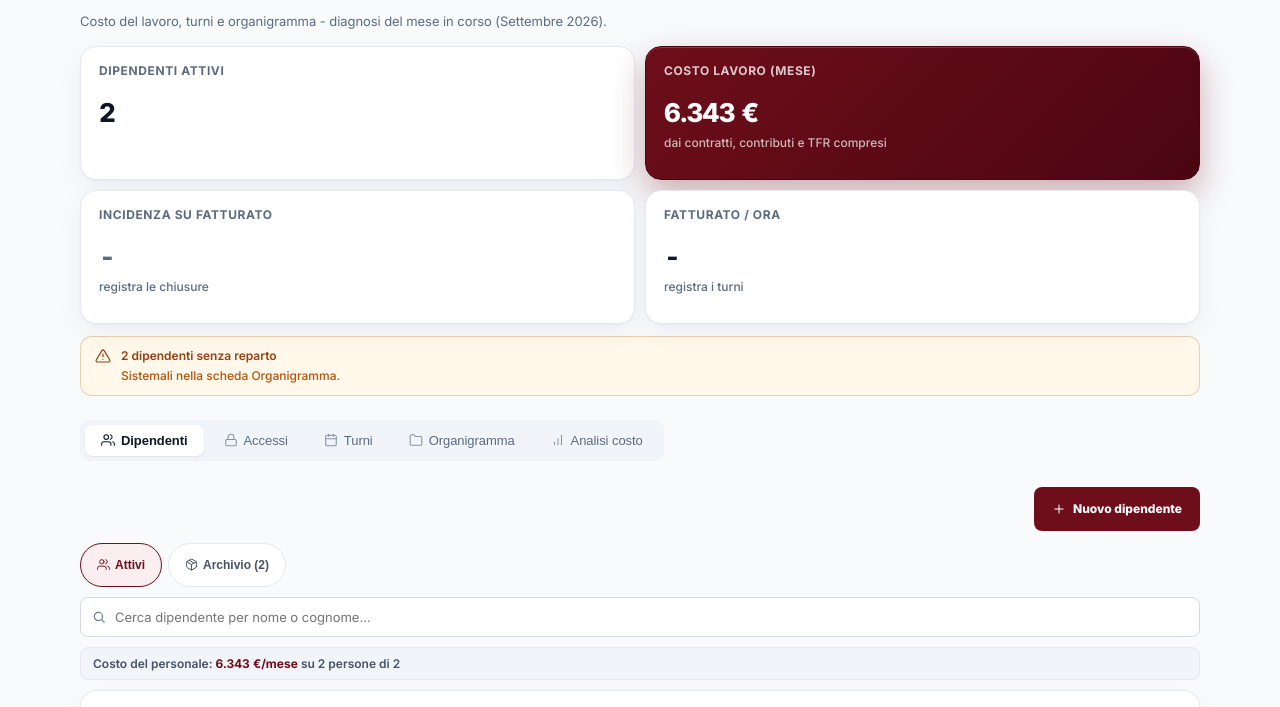
Scenario: Il tablet si tocca col dito, come il telefono › anche le frecce del periodo nei turni sono da dito sul tablet
Click the button "Turni" at (348, 440), box [308,424,389,456]
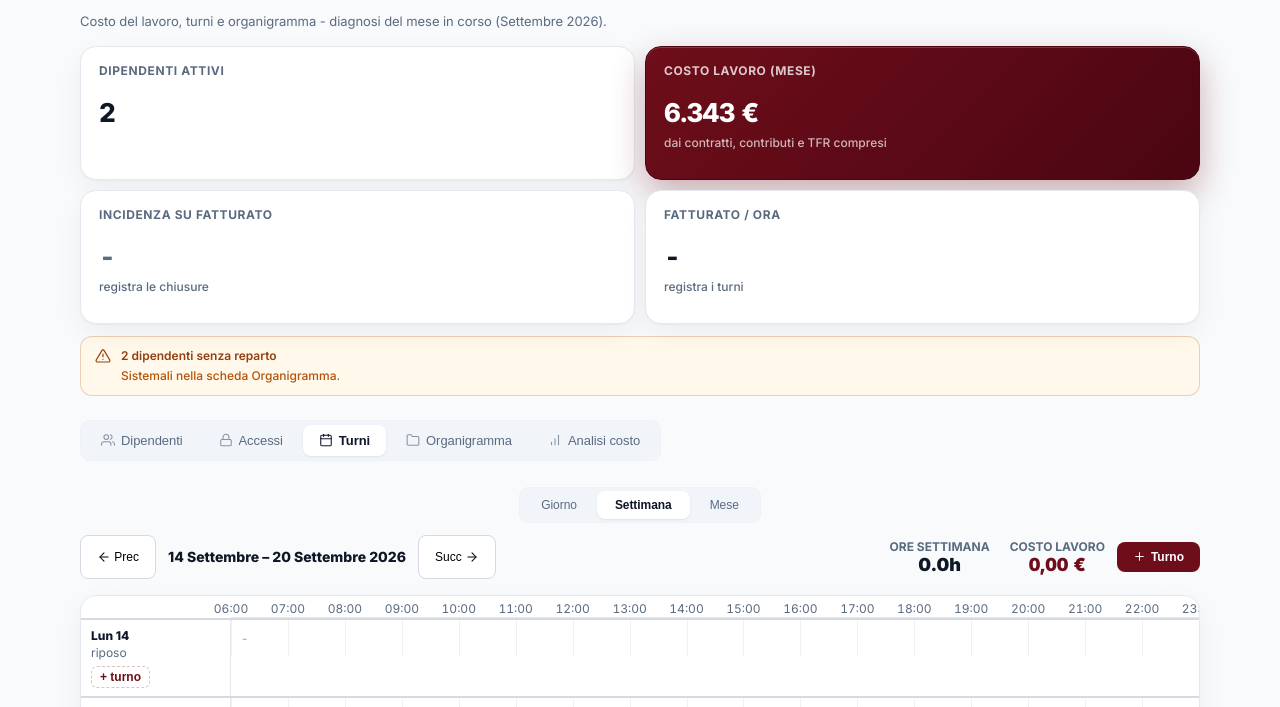
Expected: the button with aria-label "Periodo precedente" is shown, [80,534,156,578]
